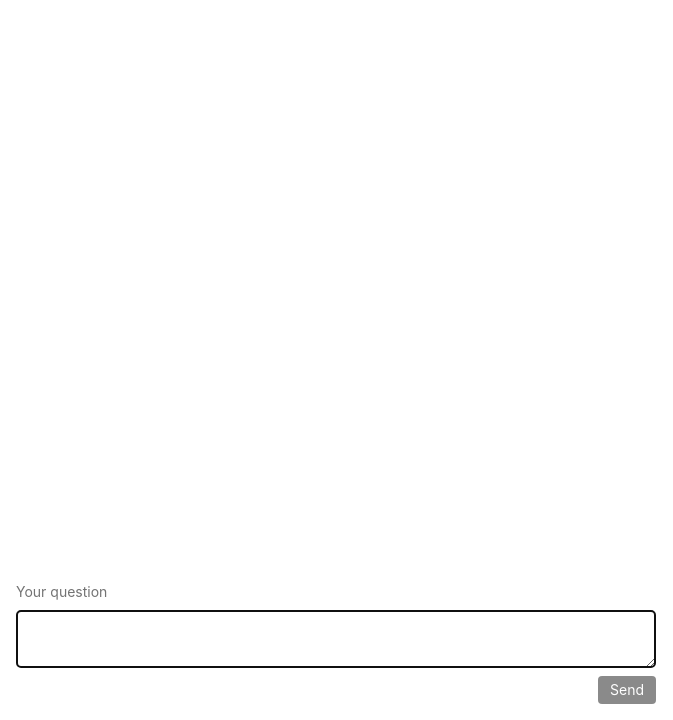
Test: Chat (jsdom) › shows error copy on an error event and Retry resends the same message
The width and height of the screenshot is (673, 720).
Type "my-secret-symptom-text" into the text box labelled "Your question" at (336, 639), box left=16, top=610, right=656, bottom=668
Then press Enter
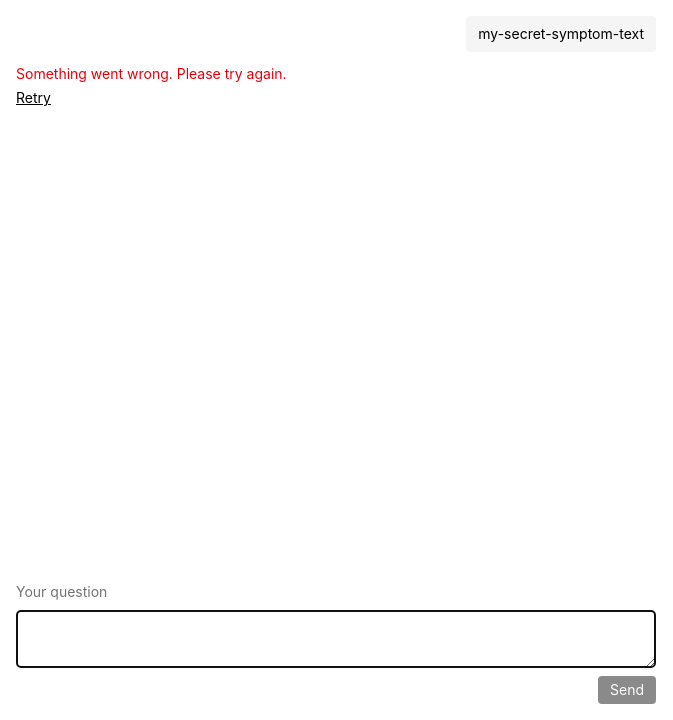
Result: the text "Something went wrong. Please try again." is shown at left=16, top=64, right=287, bottom=84
Click the button "Retry" at (33, 98), box left=16, top=88, right=51, bottom=108
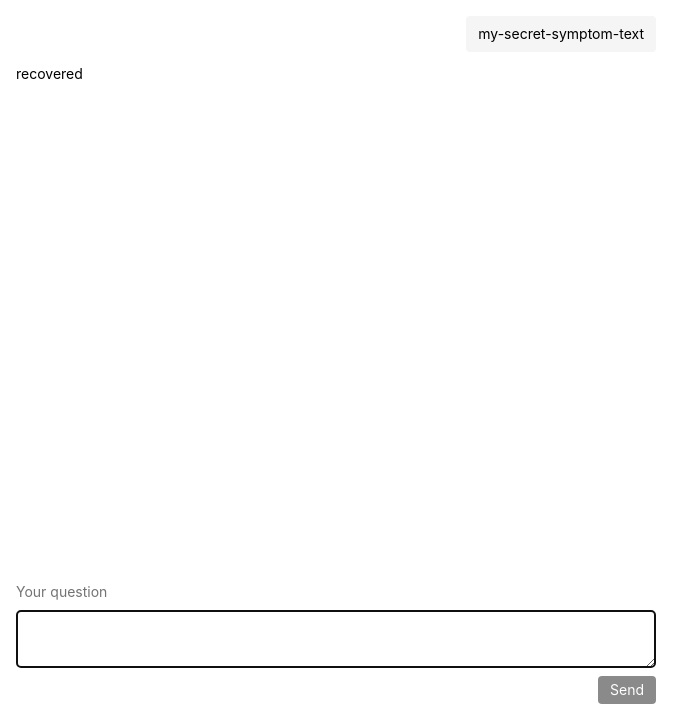
Result: the text "my-secret-symptom-text" is shown at left=466, top=16, right=656, bottom=52
Result: the text "my-secret-symptom-text" is shown once at left=466, top=16, right=656, bottom=52
Result: the text "recovered" is shown at left=16, top=64, right=83, bottom=84
